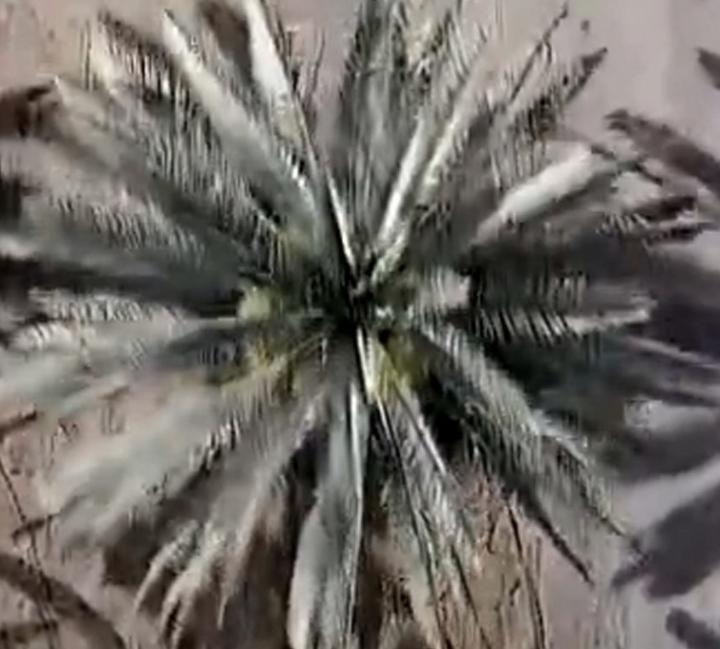Date-Palm-Crown: (188, 140, 508, 486)
